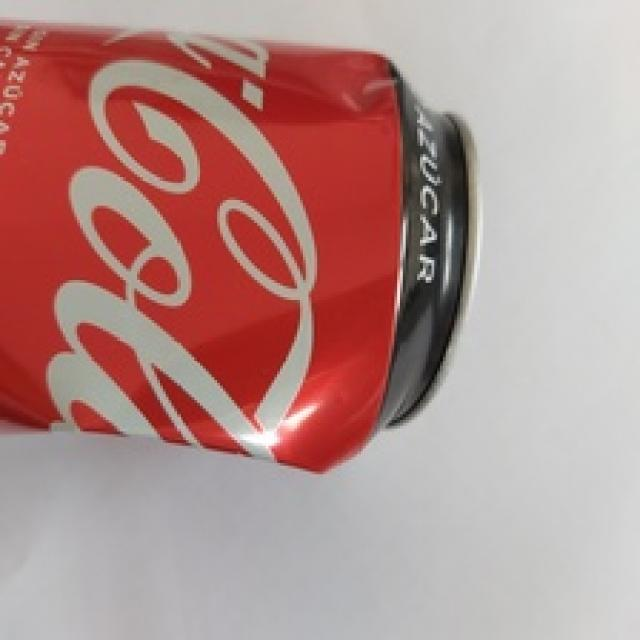recyclable: (0, 20, 477, 475)
